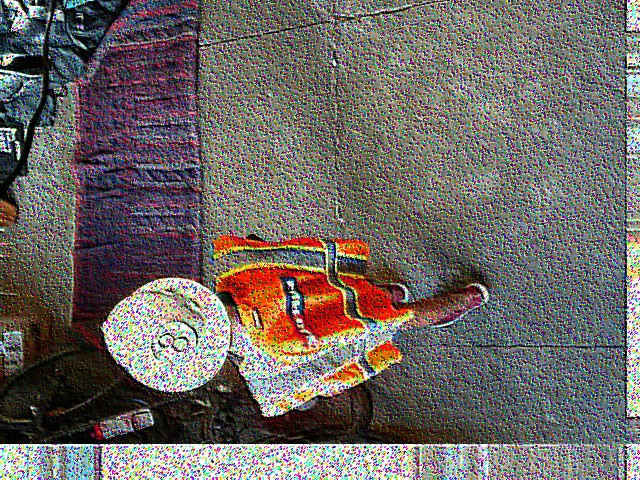eight: (146, 320, 195, 363)
